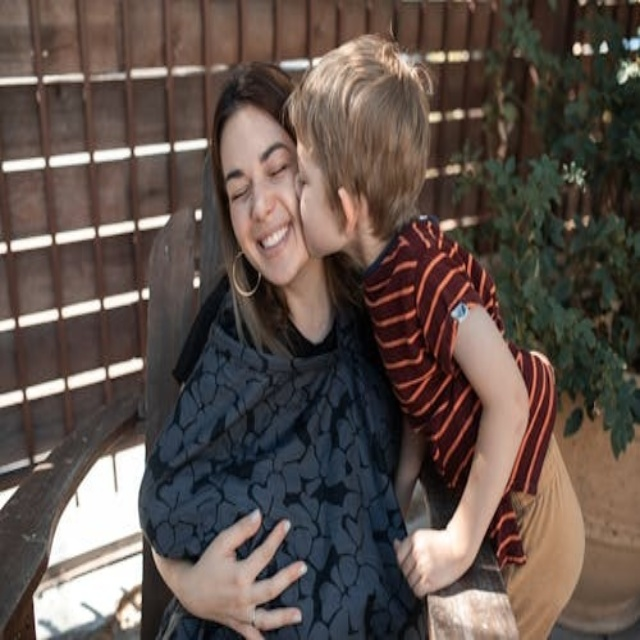Sin_gafas: (228, 135, 291, 208)
Sin_guantes: (182, 507, 309, 637), (397, 521, 471, 598)
Sin_mascara: (248, 215, 298, 275)
